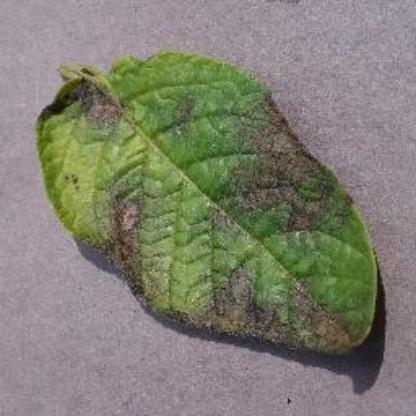Late-Blight: (23, 9, 404, 393)
